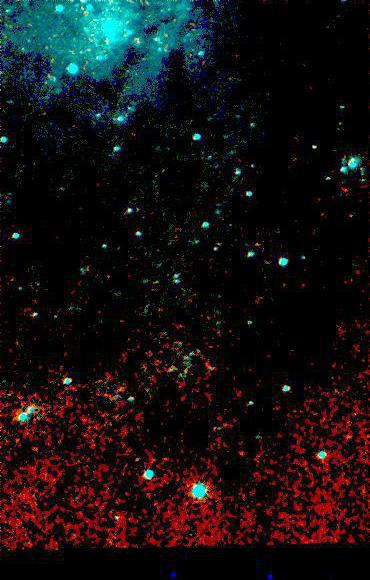star: (227, 438, 257, 468)
